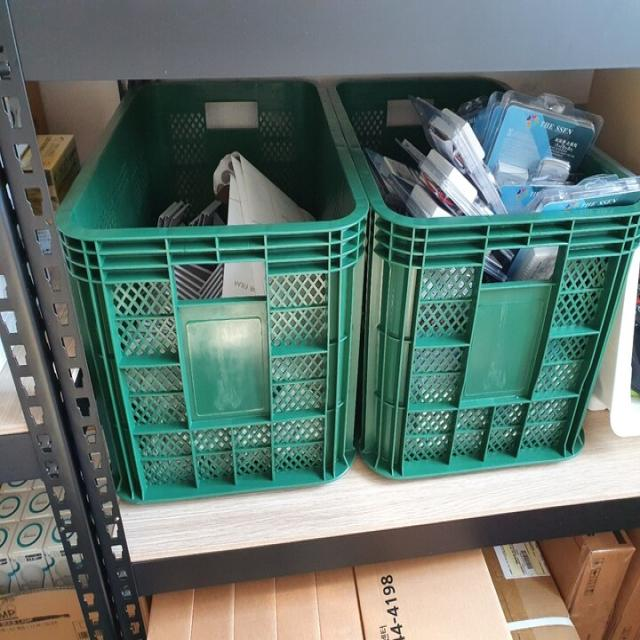basket: (43, 62, 398, 509)
